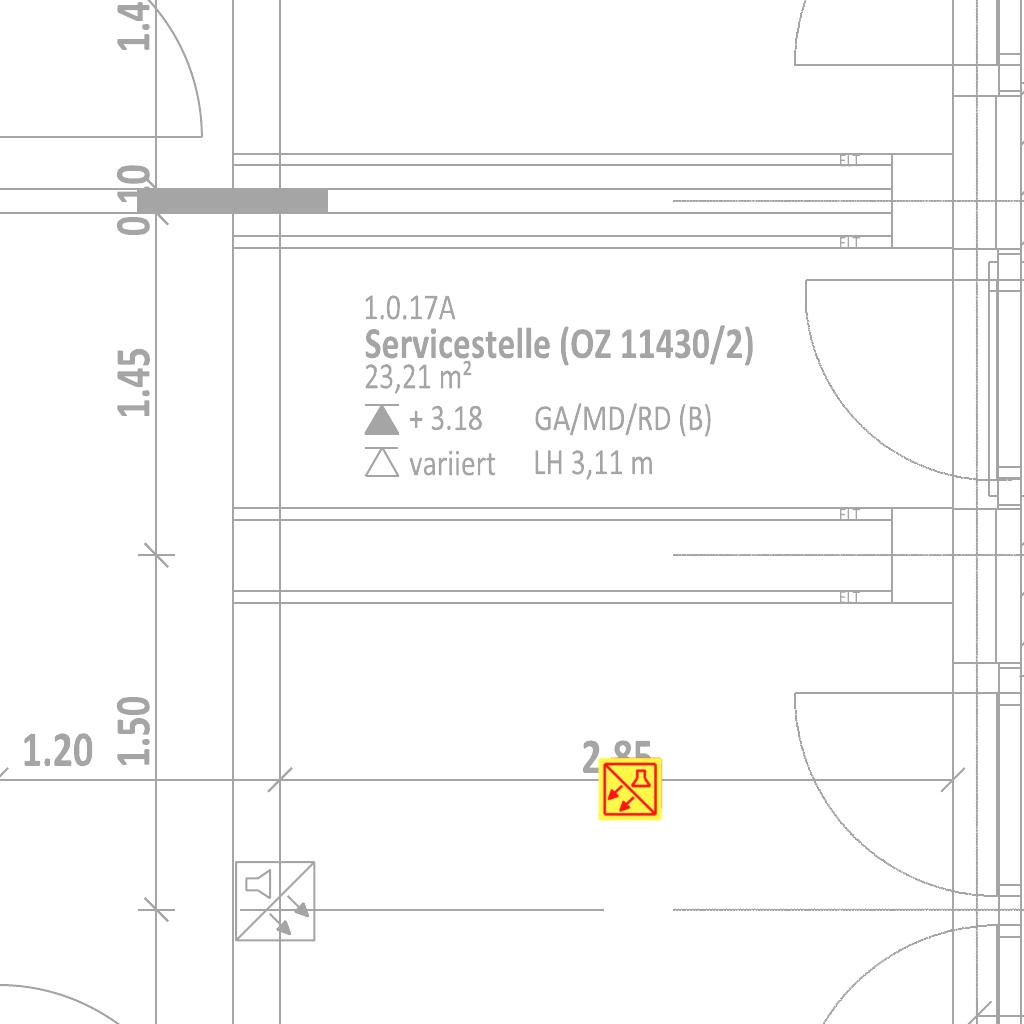OKW_Multisensormelder_(Kombination_optischer_Rauch-Kahlenmonoxid_Waerme-Melder): (597, 756, 663, 822)
